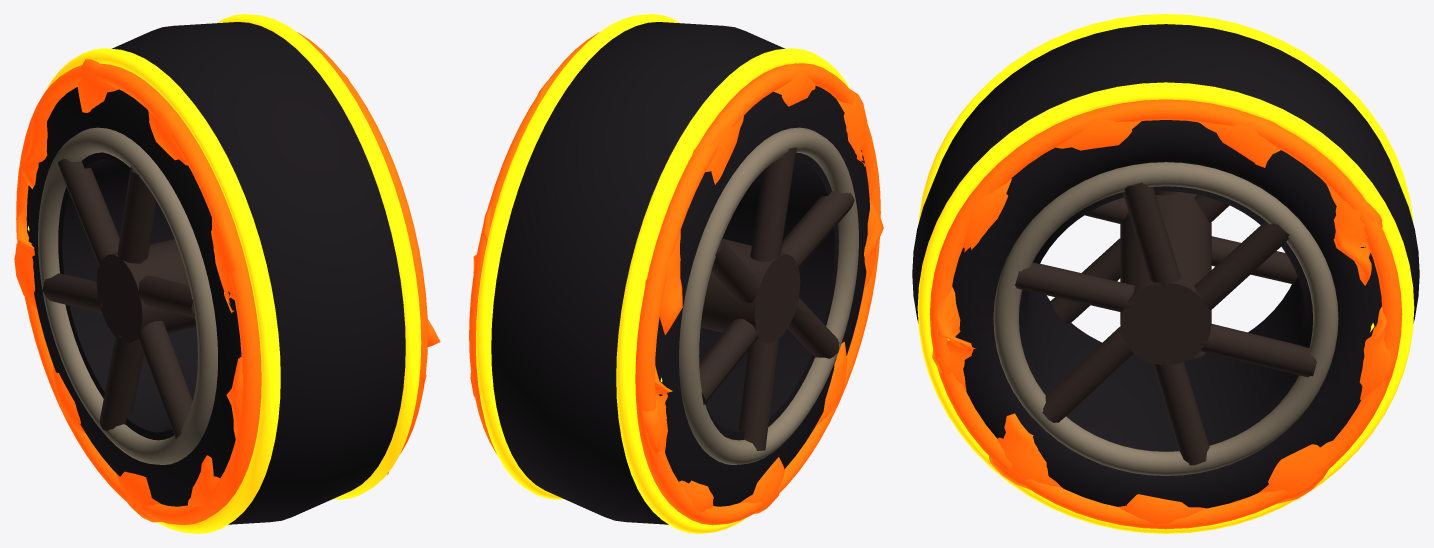
File: A034-FLAME_KART_Wheel_RL_Part_01_0907_ffe06f13.glb
3 views of the same model, side by side, from view 1: azimuth 30°, elevation 25°; view 2: azimuth 150°, elevation 25°; view 3: azimuth 270°, elevation 25° (orthographic).
Visible parts, largest first — view 1: FLAME_KART_Wheel_RL_Part_01; view 2: FLAME_KART_Wheel_RL_Part_01; view 3: FLAME_KART_Wheel_RL_Part_01.
Part boxes in pixels (box(x1,y1,x2,y2)): FLAME_KART_Wheel_RL_Part_01: box(14, 14, 440, 533); FLAME_KART_Wheel_RL_Part_01: box(469, 14, 883, 533); FLAME_KART_Wheel_RL_Part_01: box(912, 14, 1419, 533).
Bounding box in the file's own units: 0.2109 × 0.44 × 0.44.
